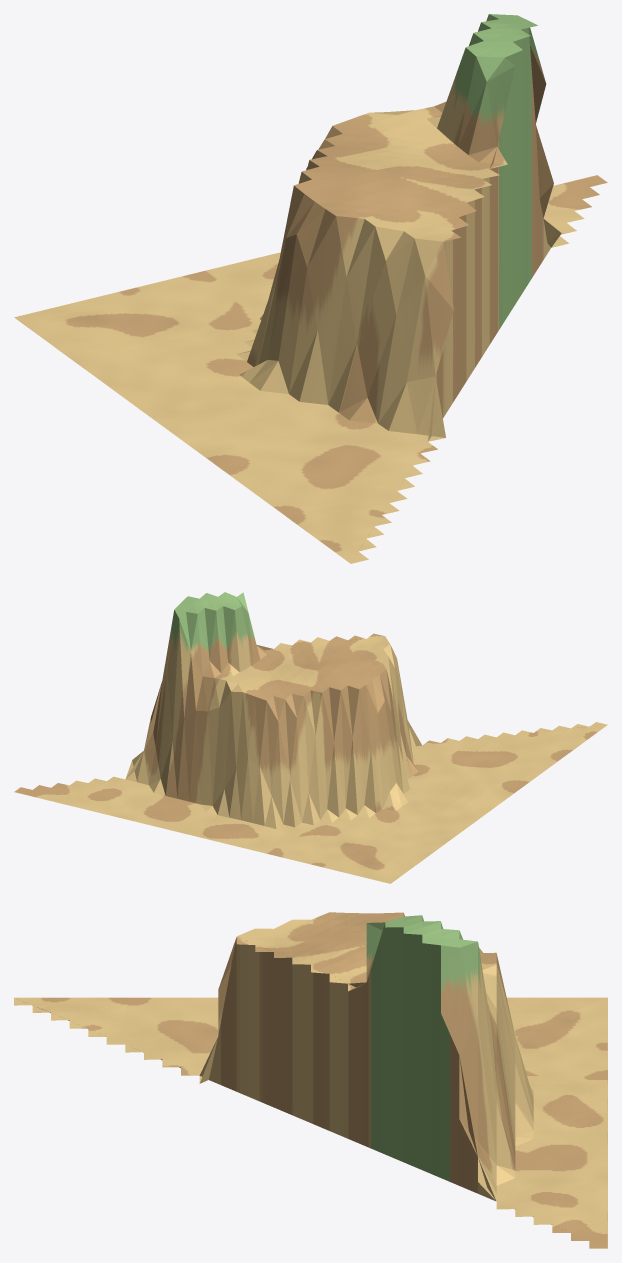
Rendered from Desert_Mountains_11_SW.obj.
3 renders of one model, top to bottom at view 1: azimuth 30°, elevation 25°; view 2: azimuth 150°, elevation 25°; view 3: azimuth 270°, elevation 25°, orthographic. The views are drawn at different scales.
Size of the model in its own units: 10 by 4.4 by 10.
Materials: 1 (1 with a texture image).
